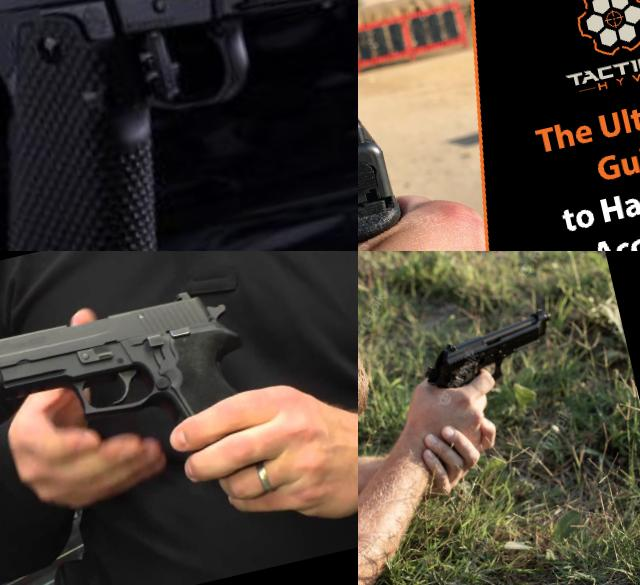handgun: (0, 0, 358, 251), (0, 278, 268, 486), (412, 304, 568, 404), (0, 399, 73, 562), (358, 83, 422, 251)
